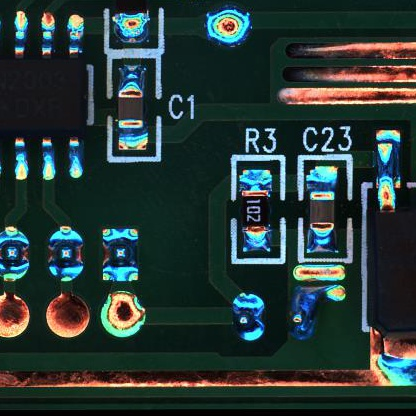spot: (45, 226, 87, 284), (101, 226, 141, 282), (1, 228, 32, 284), (201, 10, 251, 44), (232, 291, 264, 342)
